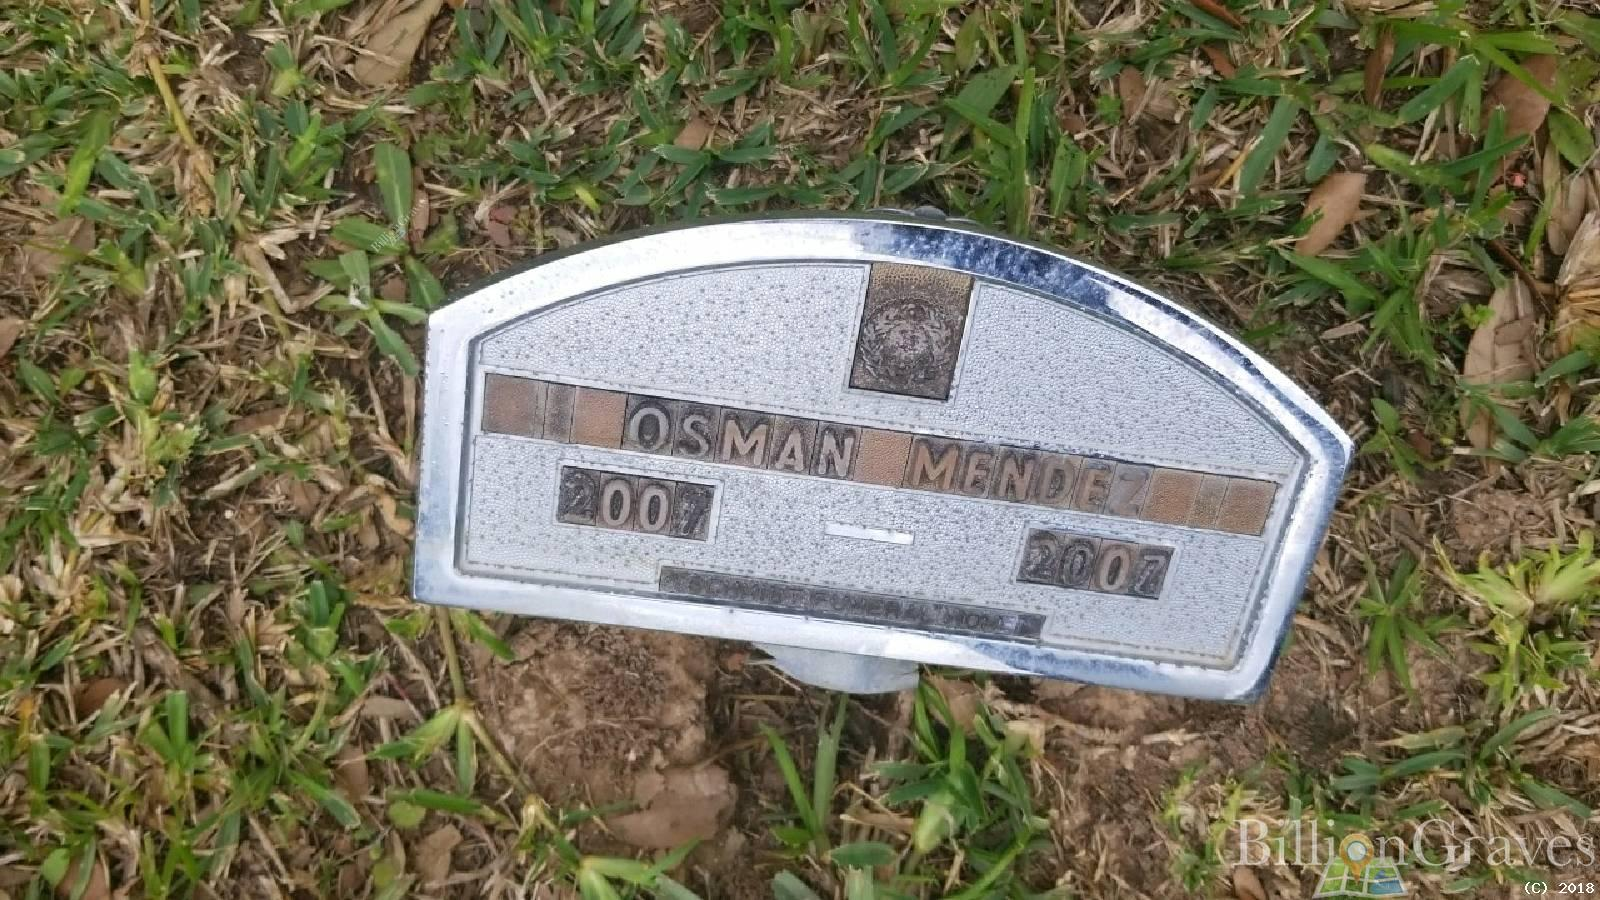plaque: (408, 208, 1349, 699)
